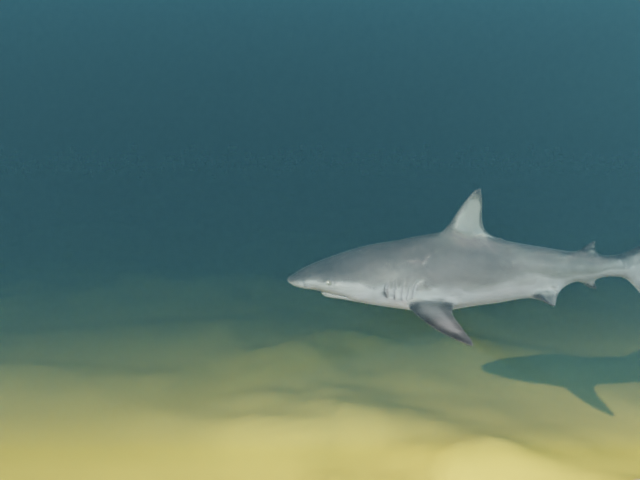Carribean Shark.001: (287, 188, 640, 345)
